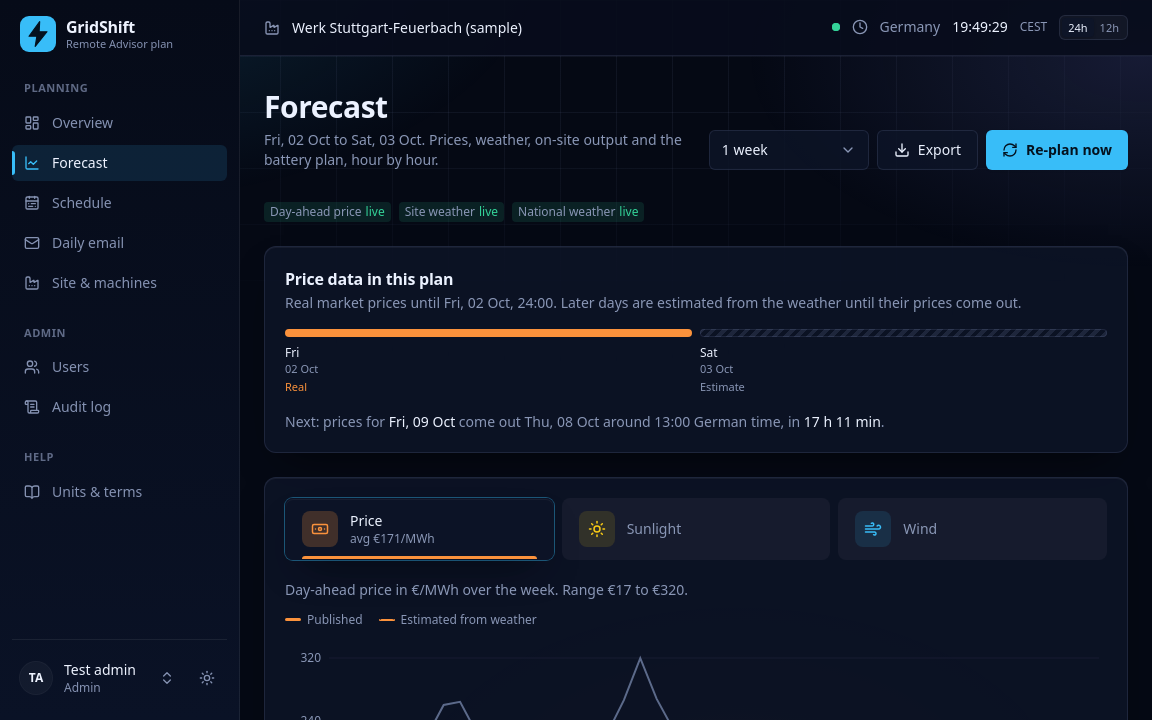
Test case: App › narrows the forecast to tomorrow
Click the dropdown named "Time range" at [789, 150], box top-left (709, 130), bottom-right (869, 170)
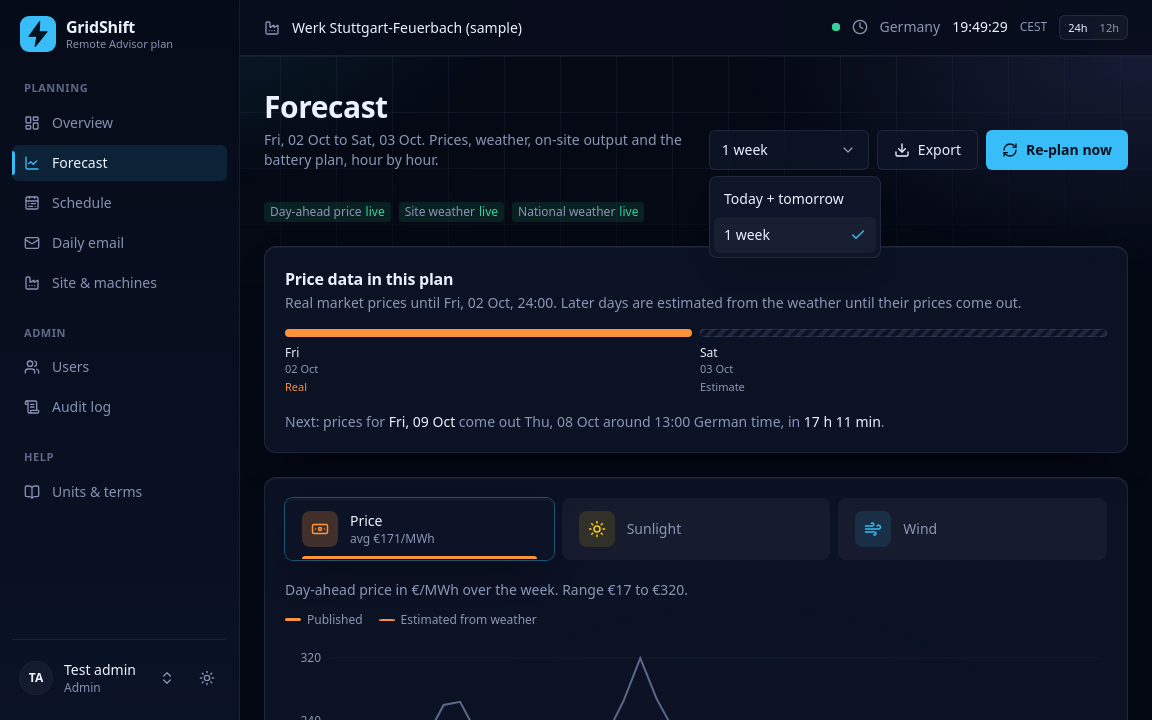
Click the option "Today + tomorrow" at [784, 198], box top-left (724, 189), bottom-right (844, 208)
(page scrolled)
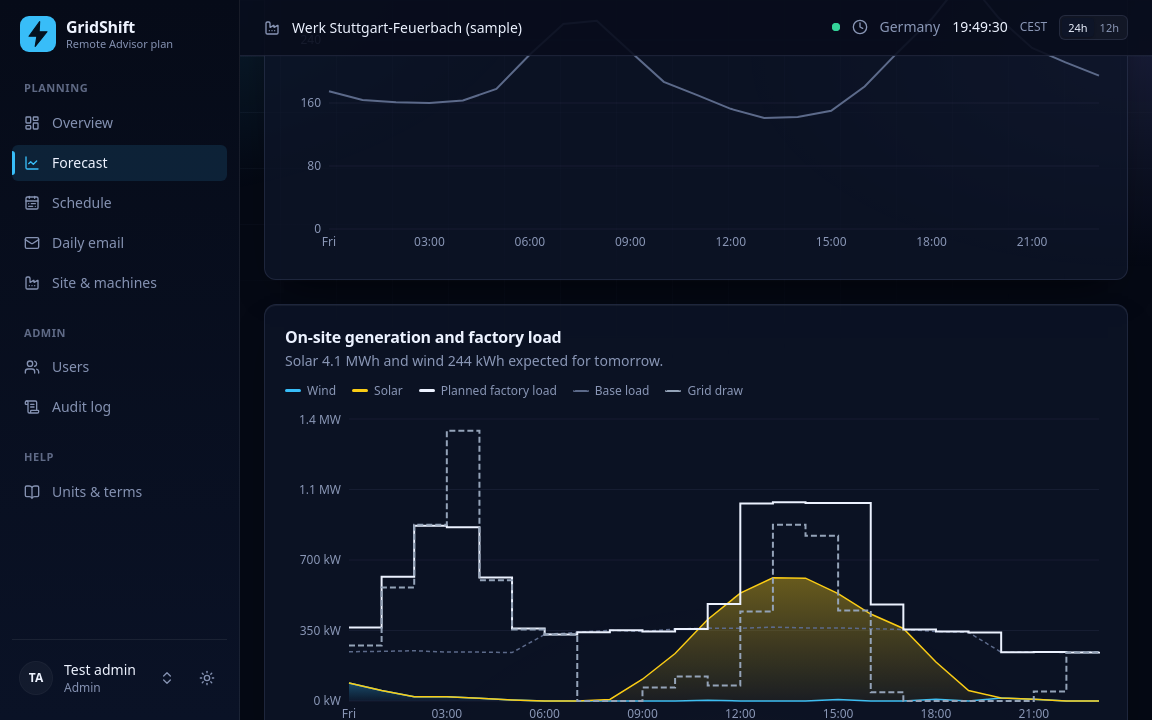
Now the text "Solar 4.1 MWh and wind 244 kWh expected for tomorrow." is shown, box top-left (285, 350), bottom-right (663, 370)
